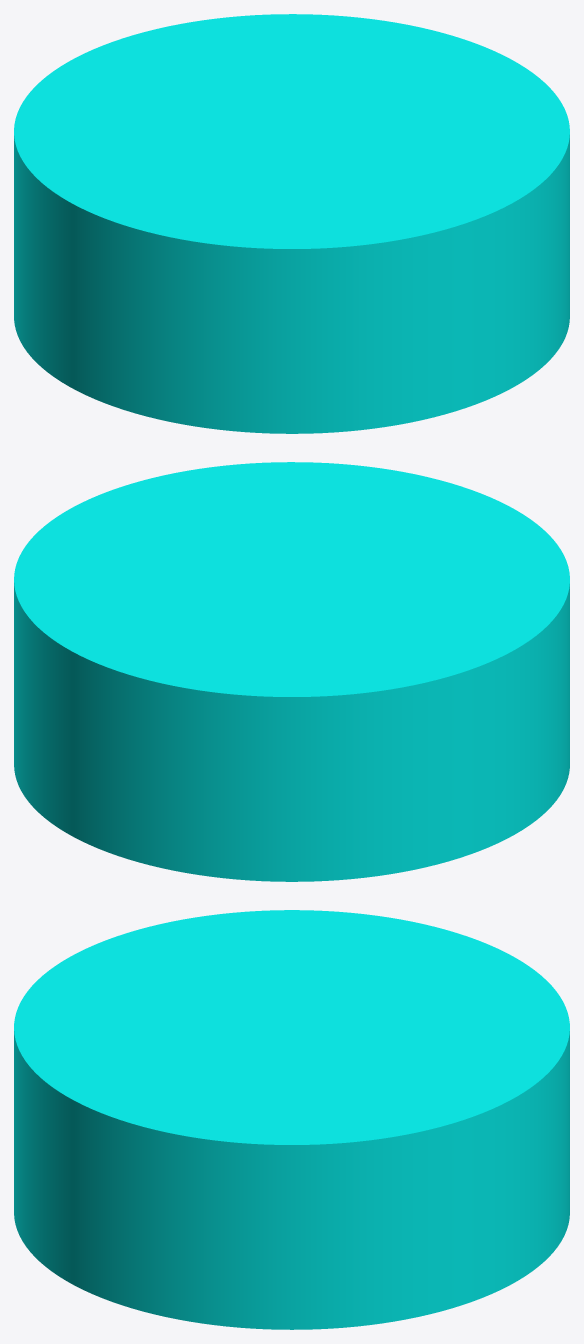
File: _oje.fbx
3 renders of one model, top to bottom at view 1: azimuth 30°, elevation 25°; view 2: azimuth 150°, elevation 25°; view 3: azimuth 270°, elevation 25°, orthographic.
Visible parts, largest first — view 1: Layer 03; view 2: Layer 03; view 3: Layer 03.
Boxes of the visible parts, bbox=[...] form: Layer 03: bbox=[14, 14, 569, 433]; Layer 03: bbox=[14, 462, 569, 881]; Layer 03: bbox=[14, 910, 569, 1329].
Size of the model in its own units: 28.8 by 28.8 by 10.56.
